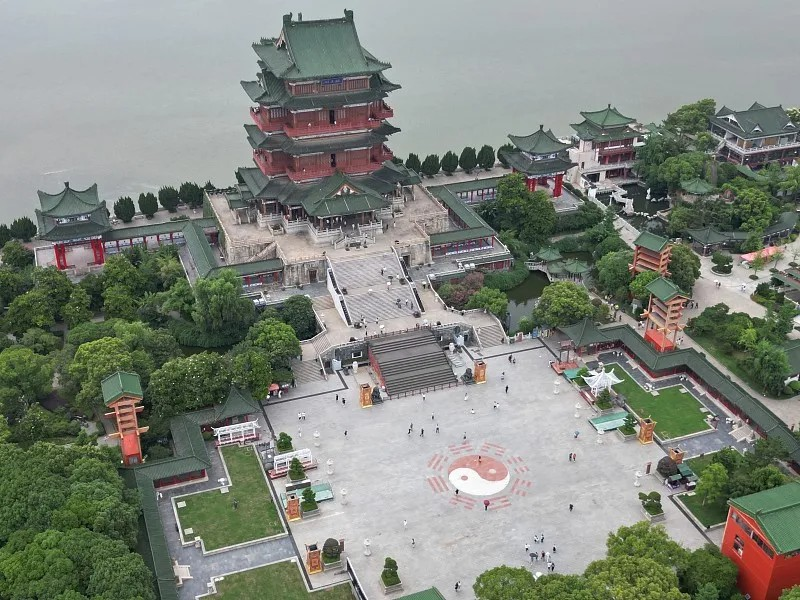Teng: (227, 10, 423, 220)
